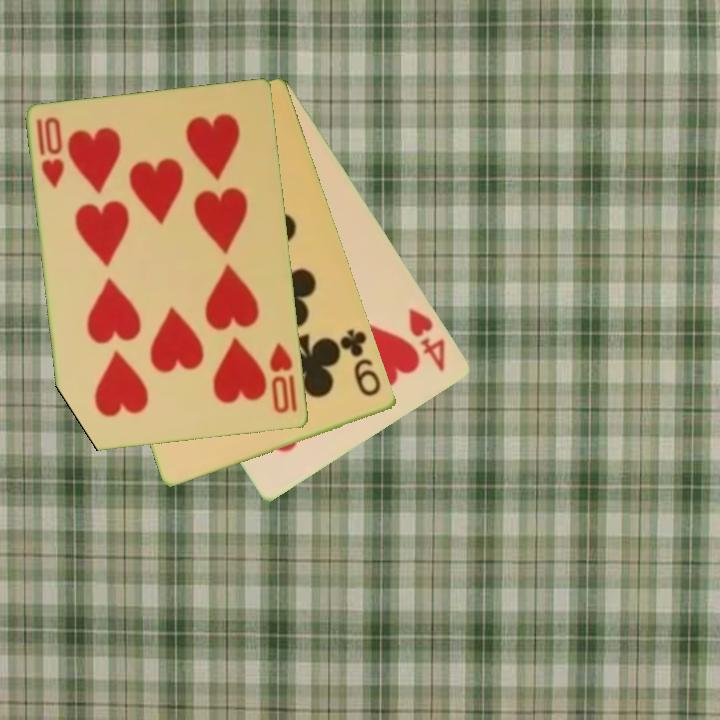10h: (266, 339, 301, 417), (33, 113, 68, 191)
4h: (405, 305, 449, 375)
9c: (337, 325, 385, 400)
